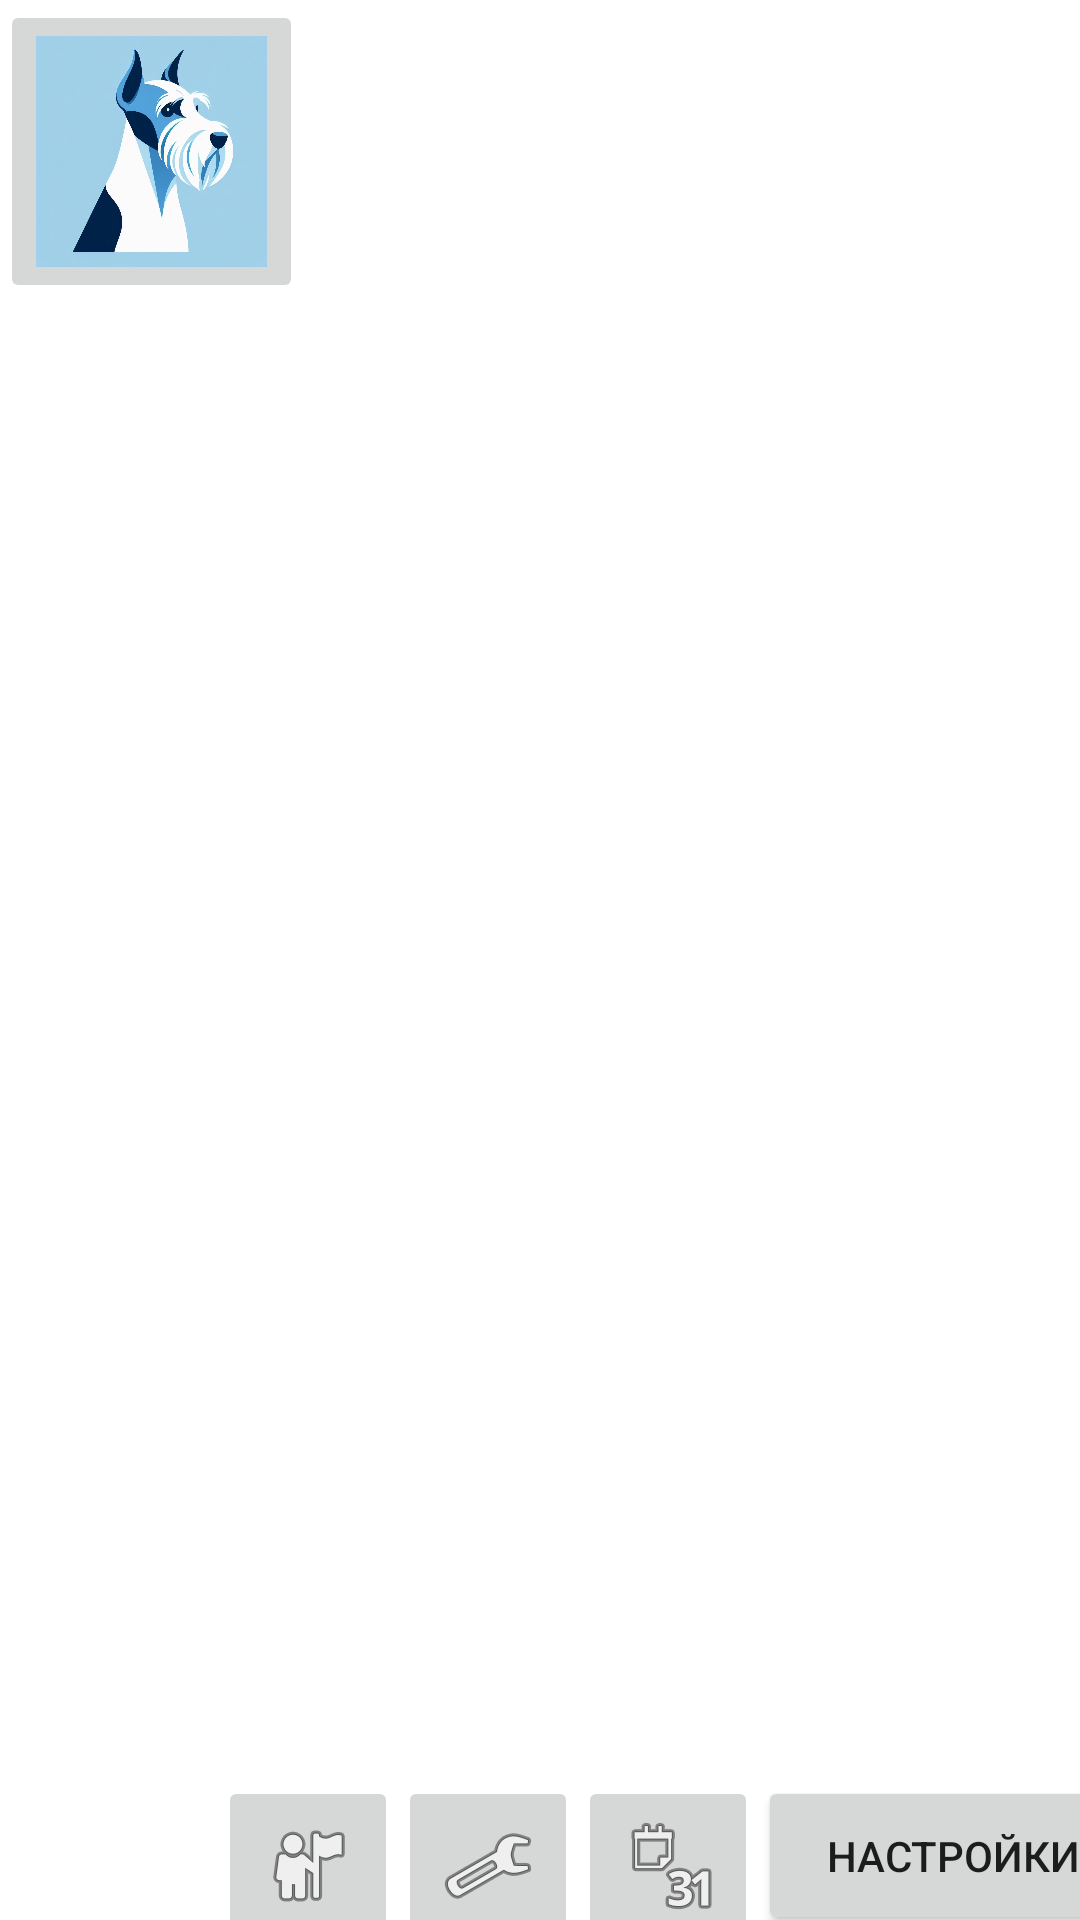

Icons on this 1080px x 1920px Android screen, each with its box as (x1, y1, x2, y2):
Профиль: (12, 18, 291, 285)
